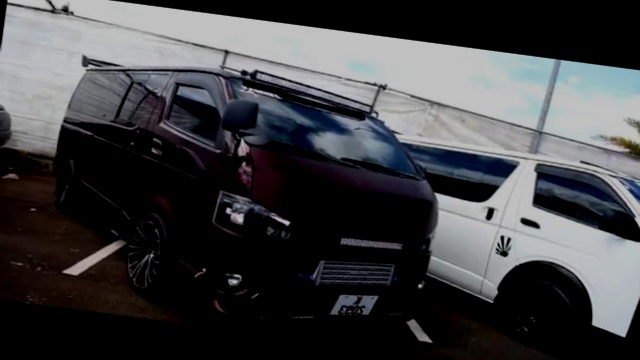van: (26, 41, 452, 337)
